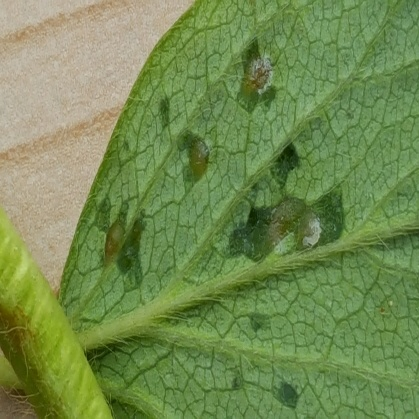Angular_LS: (89, 4, 358, 388)
